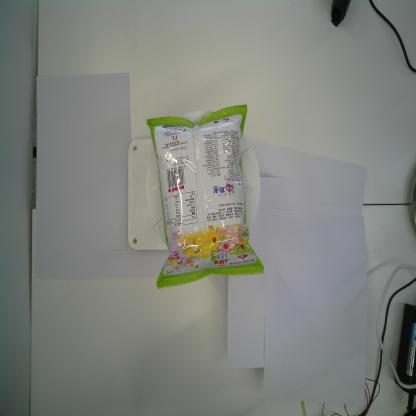Puffed Food: (146, 102, 265, 290)
